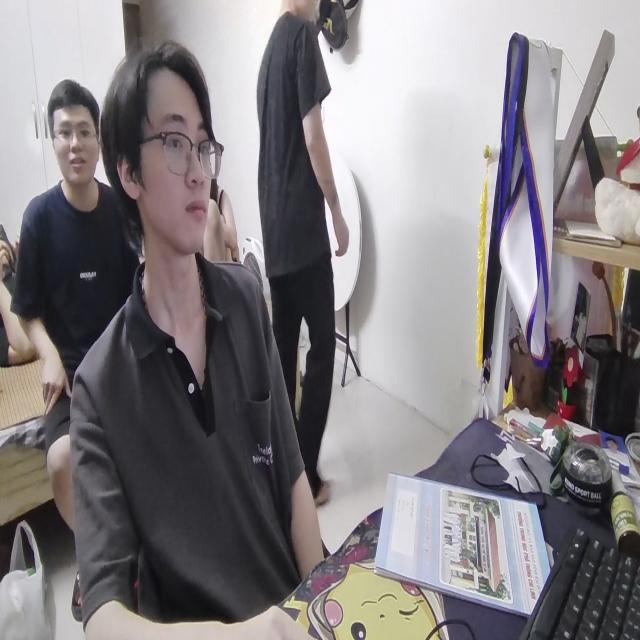book: (374, 460, 554, 616)
extra_person: (253, 2, 353, 508), (16, 87, 139, 497)
student: (66, 32, 320, 640)
